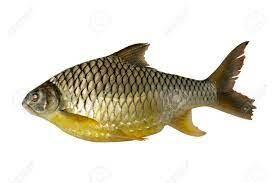Silver Barb: (24, 45, 258, 147)
